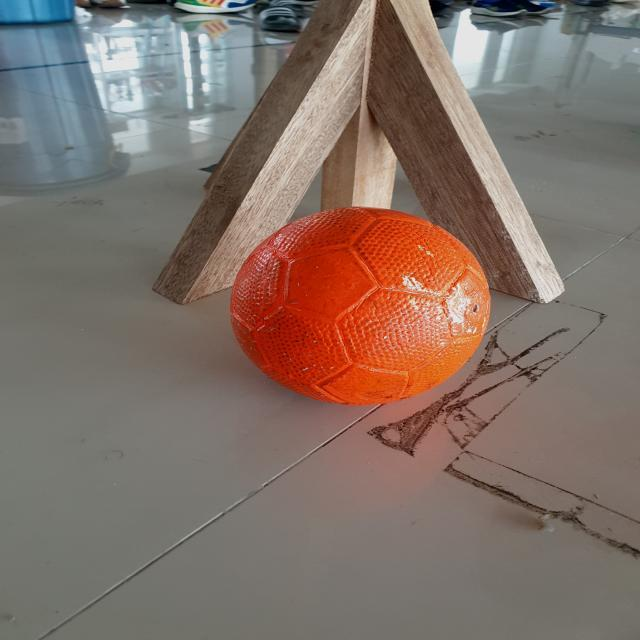bola: (207, 184, 528, 440)
